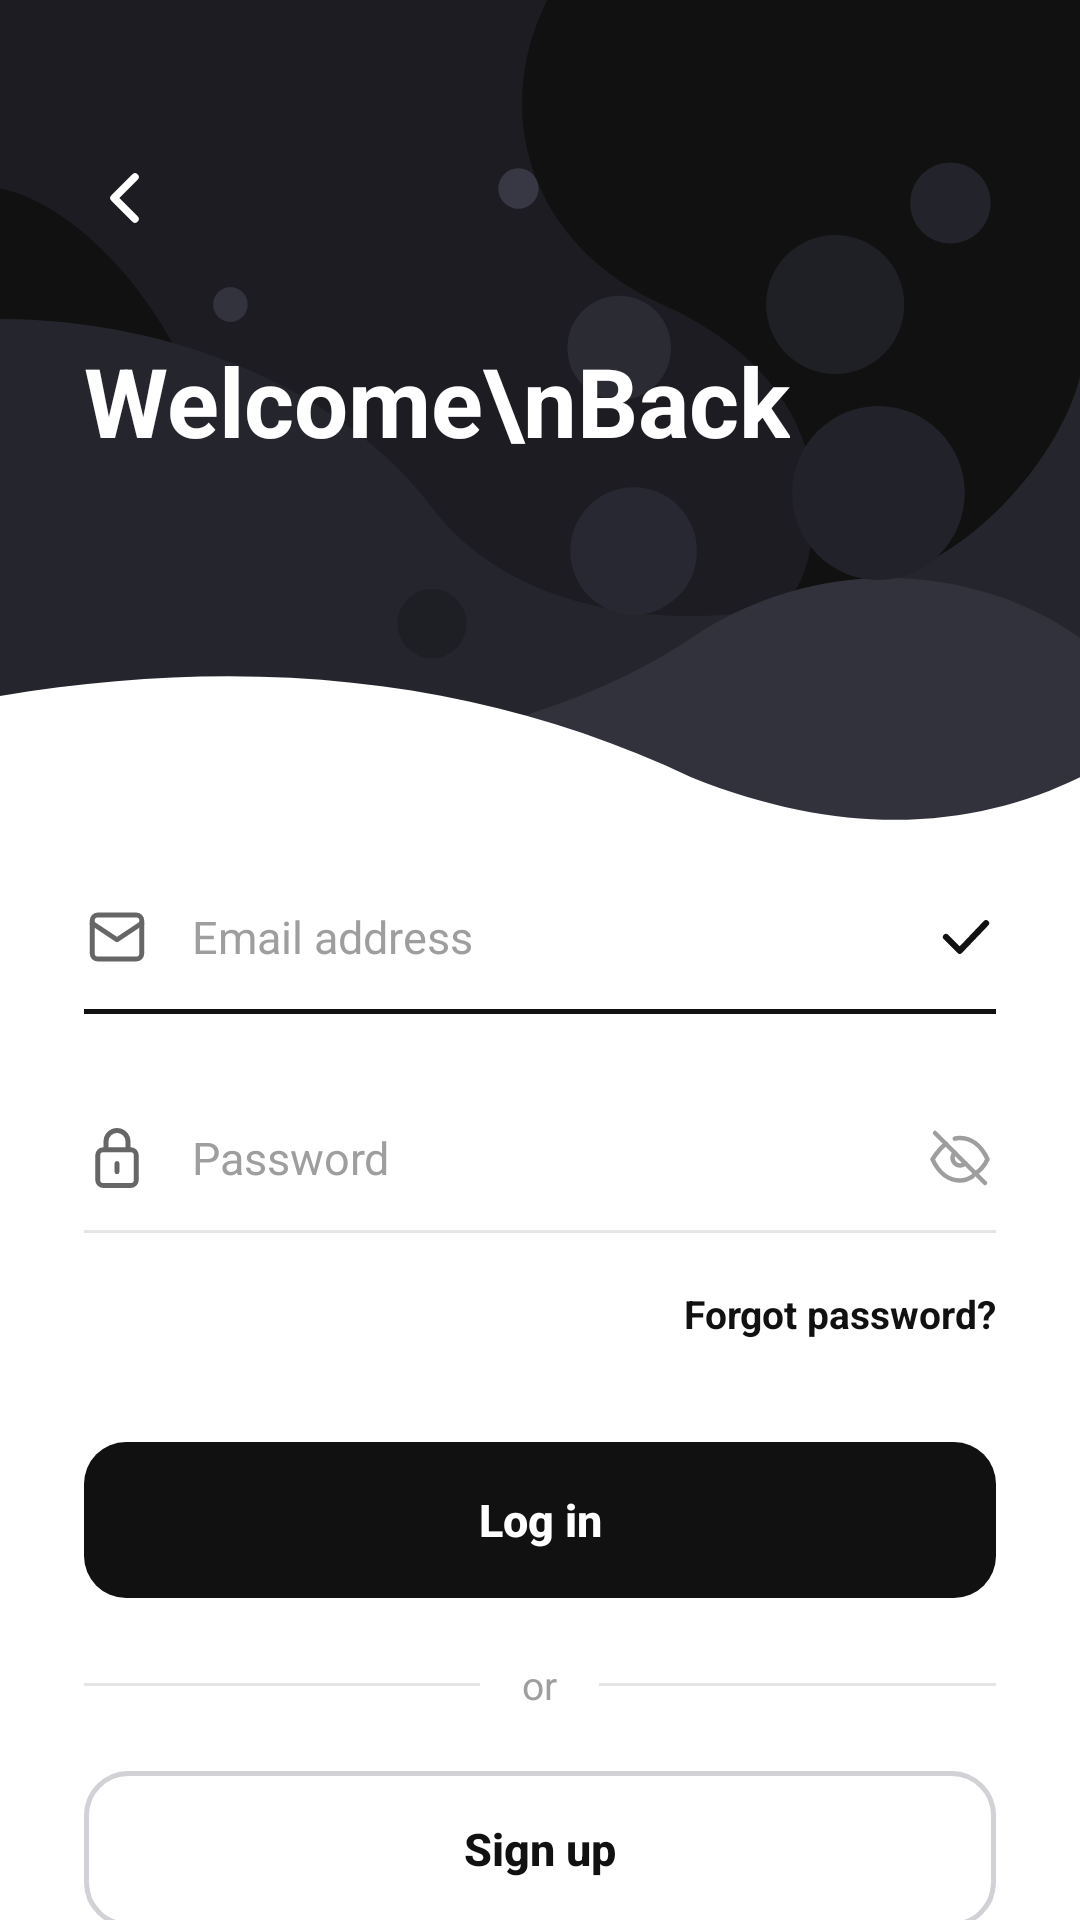

Named icons in this screenshot (1080w x 1920h) and their centers, (x,y):
Email Status: (966,937)
